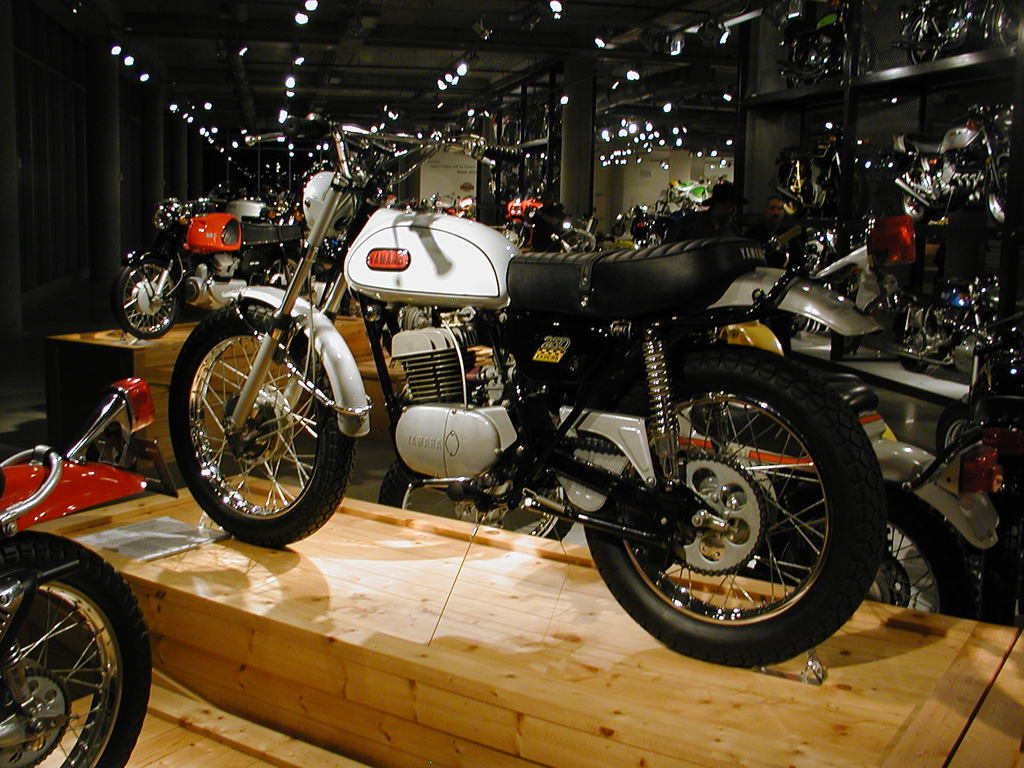Motorcycle: (372, 369, 1002, 616), (0, 366, 177, 767), (119, 181, 312, 335), (888, 97, 1020, 225), (934, 314, 1023, 460), (500, 193, 581, 242), (944, 270, 1002, 327), (268, 184, 306, 225), (667, 173, 714, 197)
